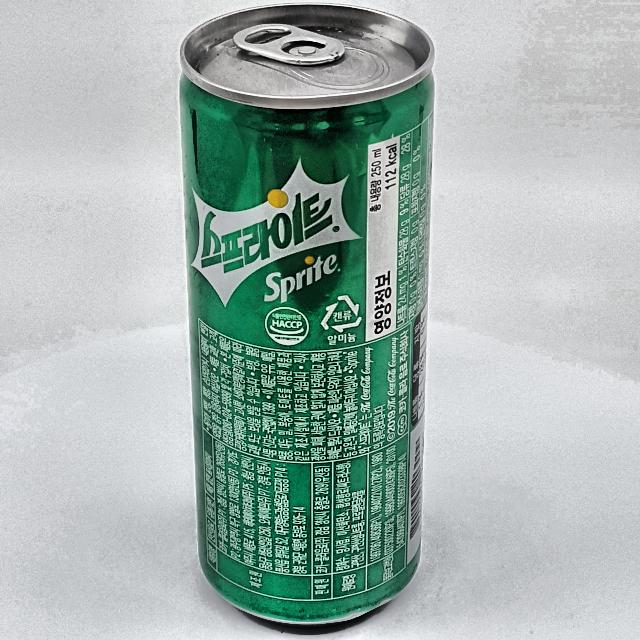sprite: (181, 5, 434, 625)
